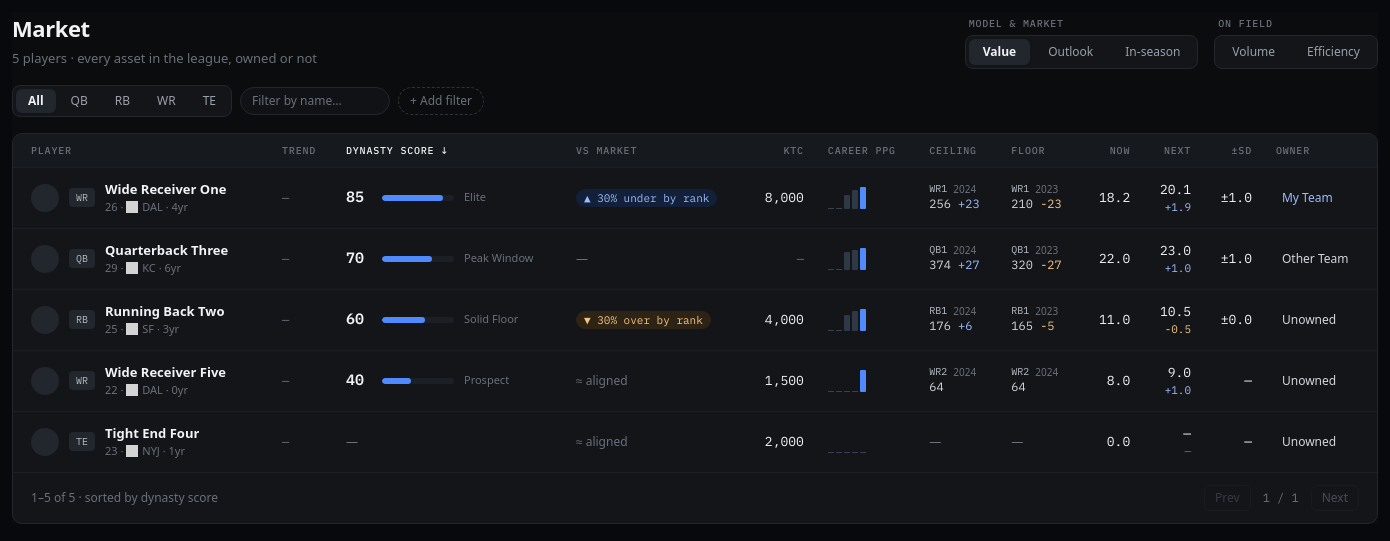
Test case: Market › search (1b Slice vii) › is never persisted to localStorage, though the in-memory value still drives the table (§2, both ends)
Step 1. Type "One" into the field named "Filter players by name" → x=315, y=100, box [240,86,390,114]
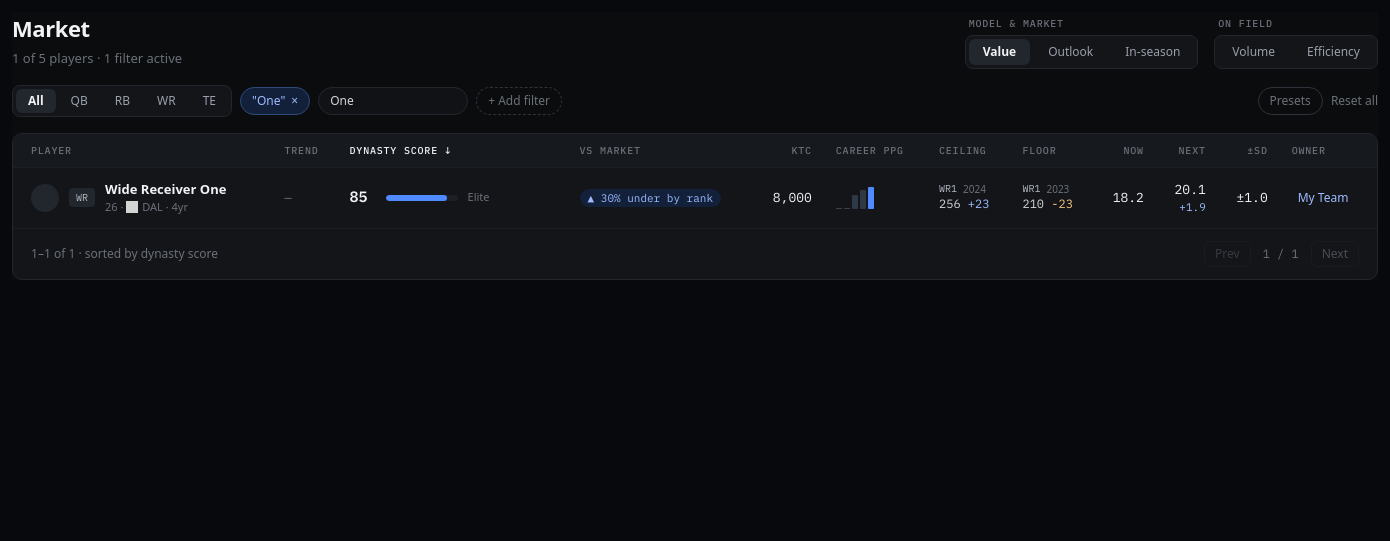
expect the button "Running Back Two" is gone: met
